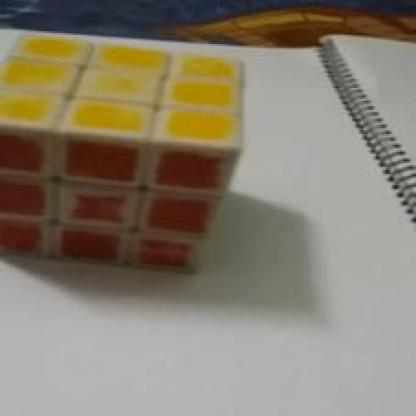cube: (6, 31, 249, 297)
